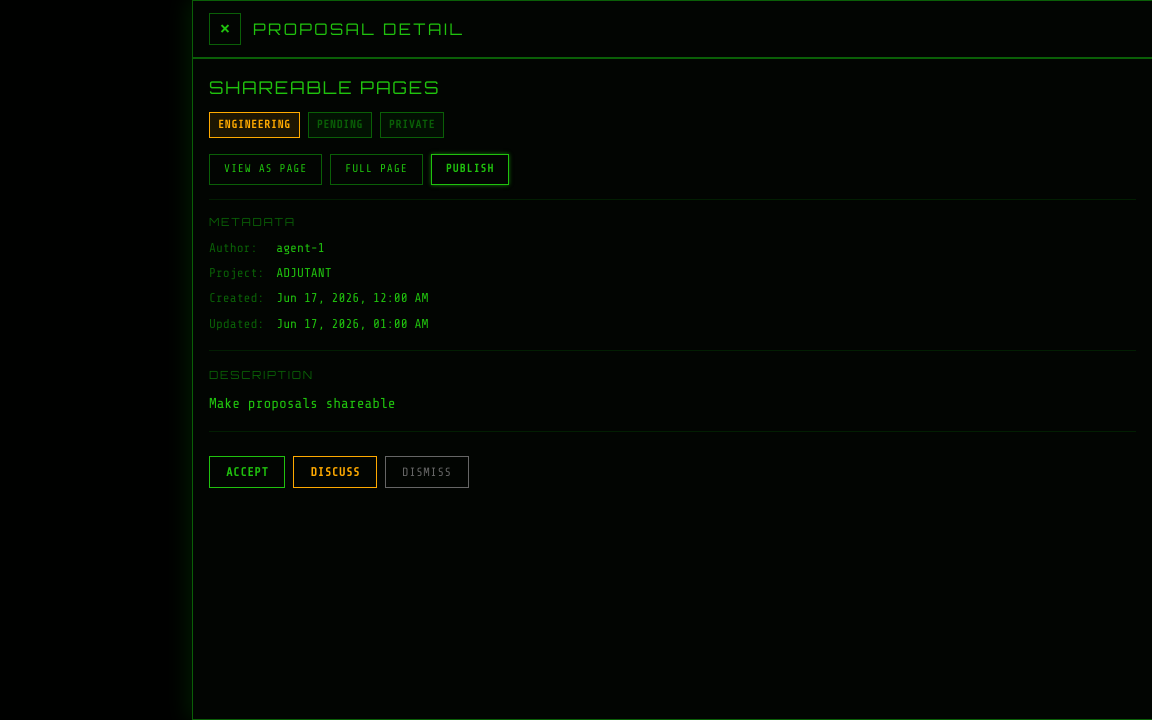
Test: ProposalDetailView sharing controls (adj-200.4.3) › publishes and flips the badge to PUBLIC
Click the button "PUBLISH" at (470, 170), box [431, 154, 509, 185]
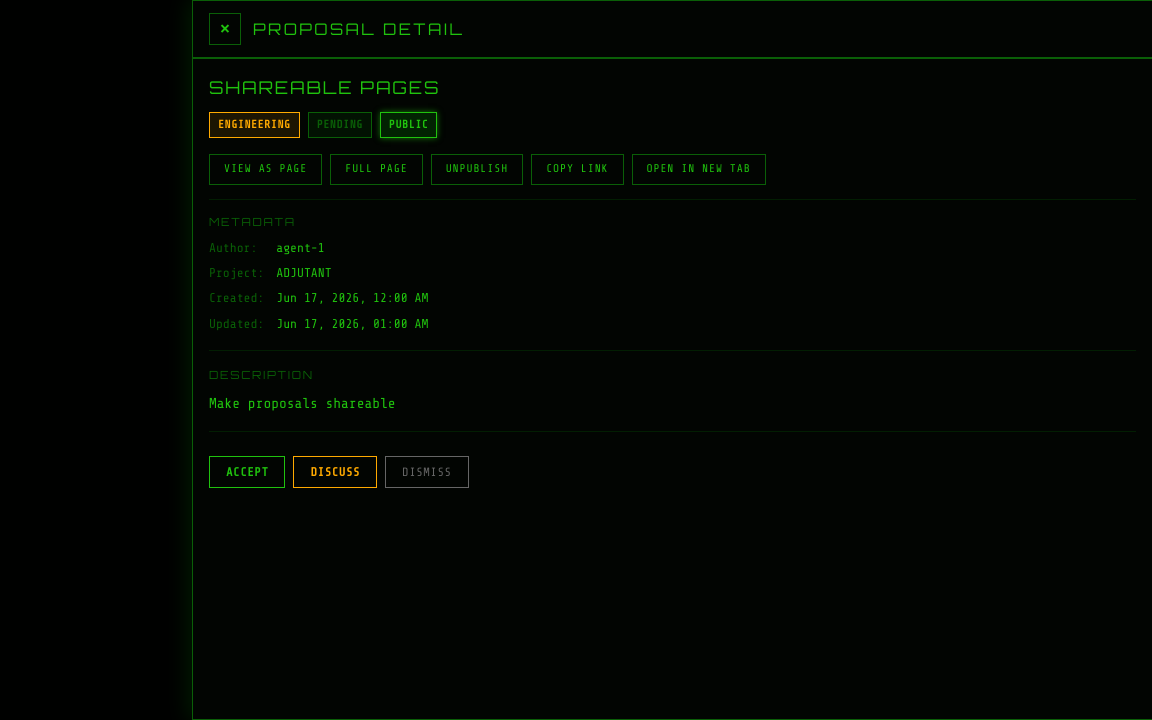
Result: the text "PUBLIC" is shown at [380, 112, 437, 138]
